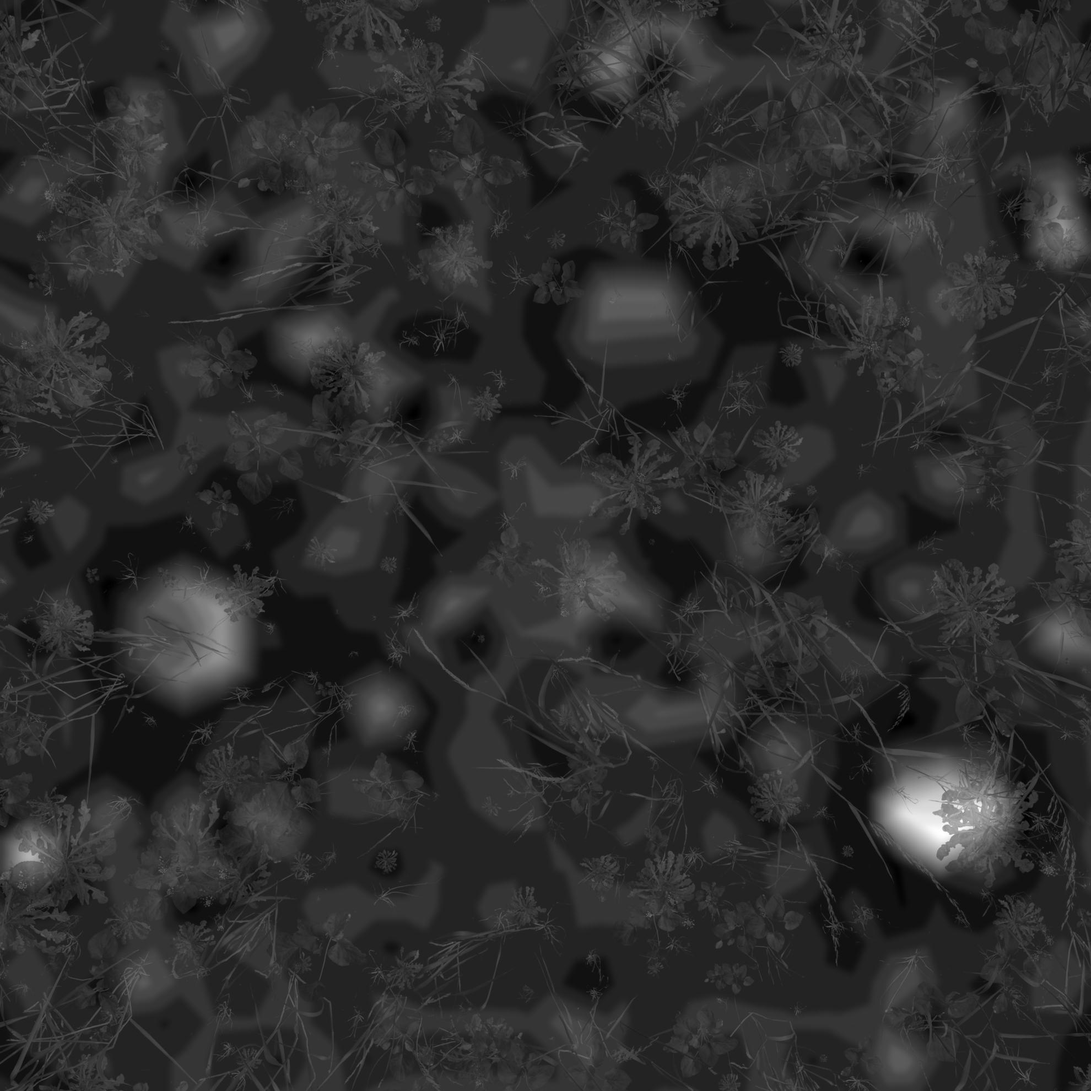landmine: (80, 520, 293, 727), (845, 714, 1037, 902), (545, 240, 718, 406)
